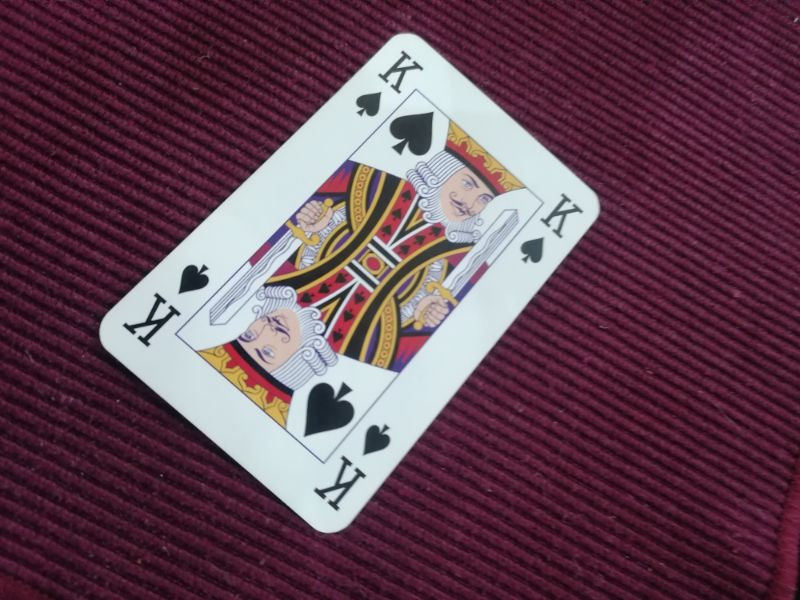Ks: (118, 259, 214, 349), (311, 418, 395, 515), (353, 44, 426, 119), (516, 190, 585, 268)
